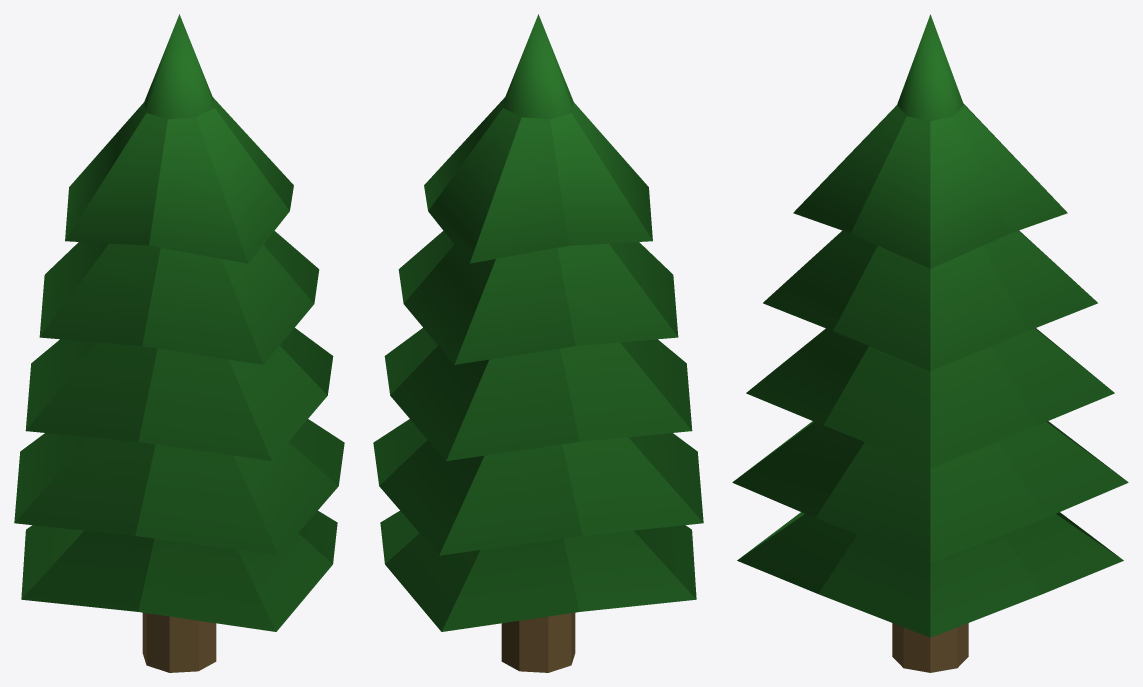
The model's file is Tree_Fir.fbx.
3 views of the same model, side by side, from view 1: azimuth 30°, elevation 25°; view 2: azimuth 150°, elevation 25°; view 3: azimuth 270°, elevation 25° (orthographic).
Parts seen in each view (by area): view 1: Fir_msh, Fir_Trunk_msh; view 2: Fir_msh, Fir_Trunk_msh; view 3: Fir_msh, Fir_Trunk_msh.
Part boxes in pixels (x1=…): Fir_msh: x1=14, y1=14, x2=344, y2=631; Fir_Trunk_msh: x1=142, y1=612, x2=216, y2=672; Fir_msh: x1=373, y1=14, x2=703, y2=631; Fir_Trunk_msh: x1=501, y1=612, x2=575, y2=672; Fir_msh: x1=732, y1=14, x2=1128, y2=637; Fir_Trunk_msh: x1=892, y1=623, x2=968, y2=672.
Size of the model in its own units: 6.28 by 11.69 by 6.54.
